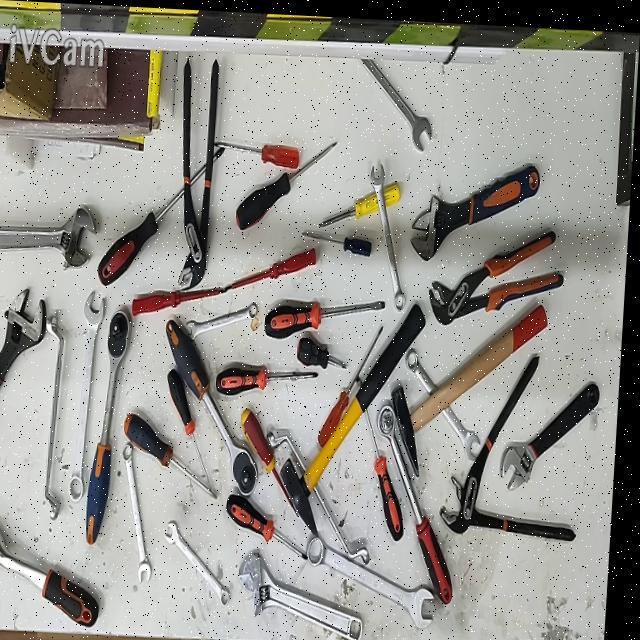Screwdriver: (101, 145, 229, 284), (239, 140, 338, 228), (129, 411, 223, 497), (322, 321, 387, 445), (361, 371, 410, 535), (246, 404, 304, 515), (232, 491, 314, 557), (172, 366, 216, 481), (268, 296, 388, 334), (229, 247, 320, 286), (320, 181, 402, 223), (220, 363, 322, 392), (136, 286, 231, 315), (216, 138, 301, 165), (303, 230, 374, 254), (302, 333, 351, 365)
